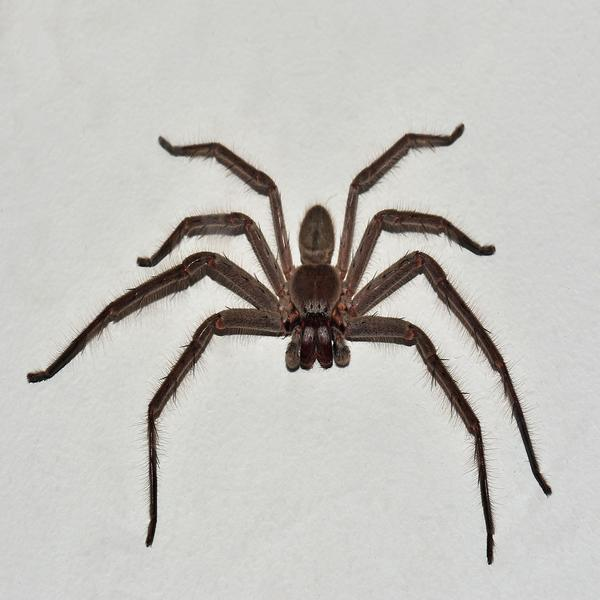Huntsman Spider: (29, 126, 553, 562)
